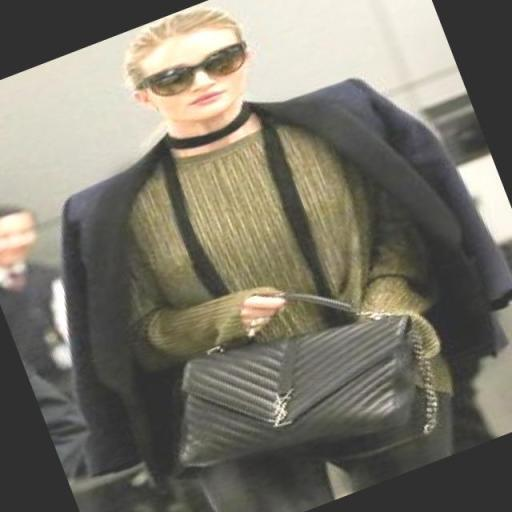bag: (176, 302, 448, 476)
